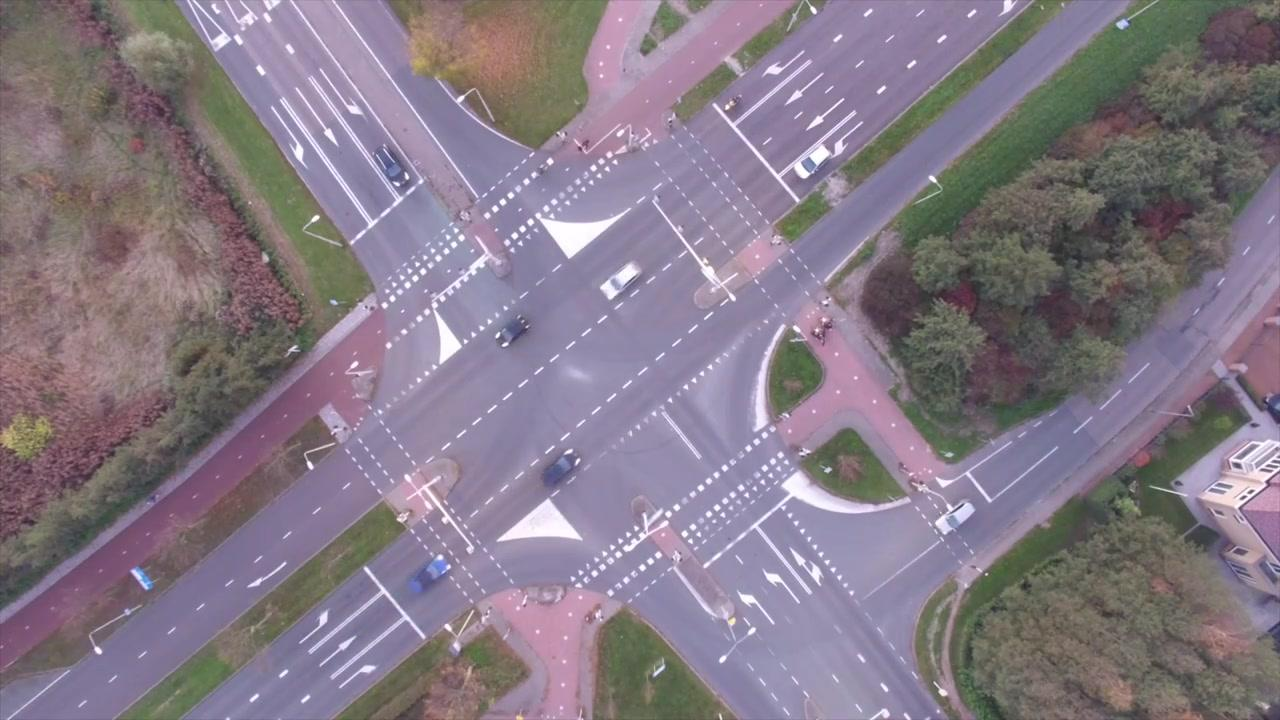car: (599, 259, 643, 302), (370, 142, 410, 189), (539, 446, 581, 489), (407, 554, 452, 593), (932, 498, 976, 537), (790, 144, 832, 181), (492, 312, 532, 349)
